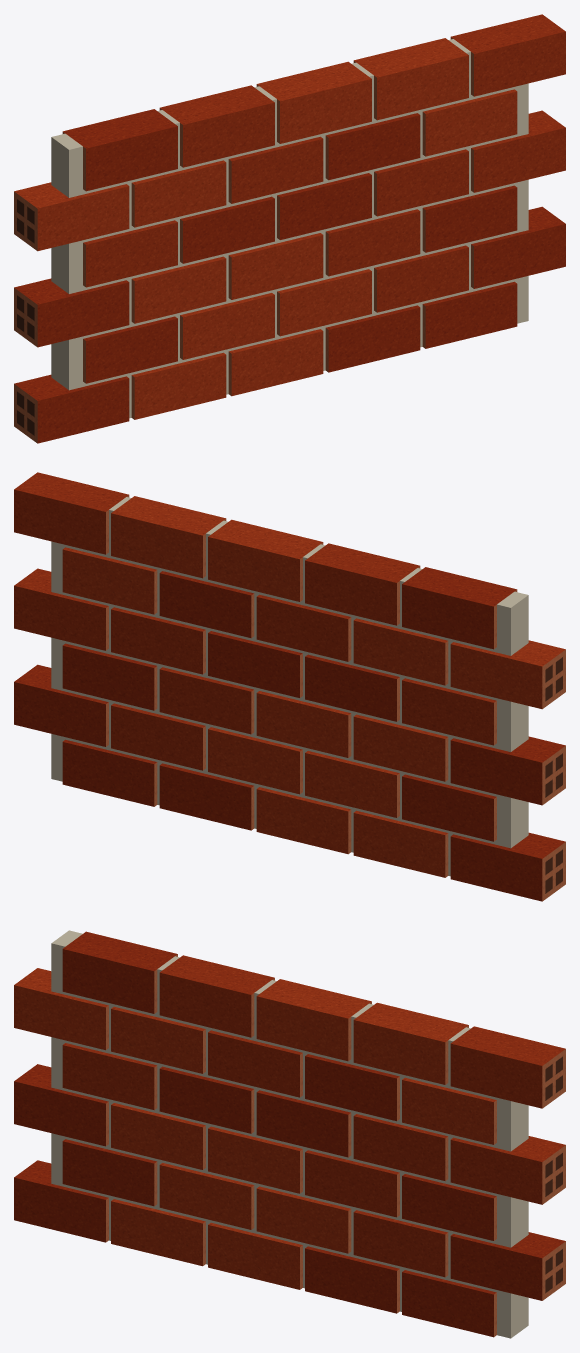
Rendered from gach.glb.
3 views of the same model, one above another, from view 1: azimuth 30°, elevation 25°; view 2: azimuth 150°, elevation 25°; view 3: azimuth 330°, elevation 25° (orthographic).
Bounding box in the file's own units: 2.07 × 1.06 × 0.16.
5 materials, 4 textured.
